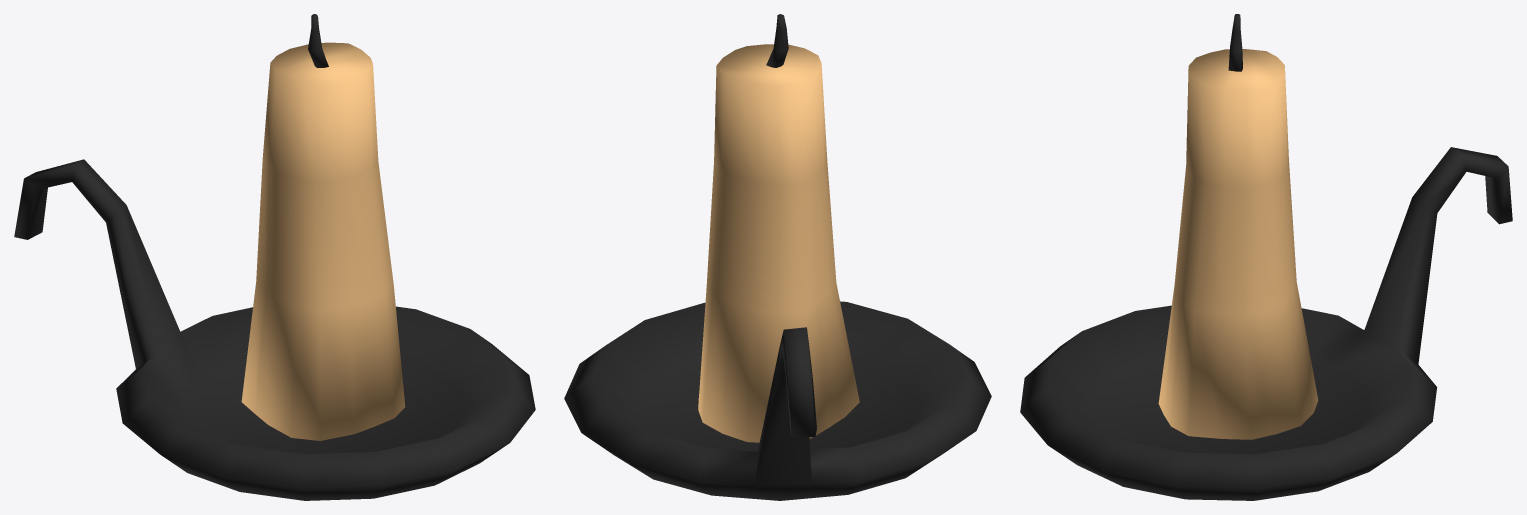
File: mum.fbx
3 views of the same model, side by side, from view 1: azimuth 30°, elevation 25°; view 2: azimuth 150°, elevation 25°; view 3: azimuth 270°, elevation 25° (orthographic).
Parts seen in each view (by area): view 1: Circle.081; view 2: Circle.081; view 3: Circle.081.
Boxes of the visible parts, x1,y1,x2,y2 form: Circle.081: (14,14,535,500); Circle.081: (564,14,991,500); Circle.081: (1020,14,1512,500).
Size of the model in its own units: 19.48 by 21.08 by 23.02.
